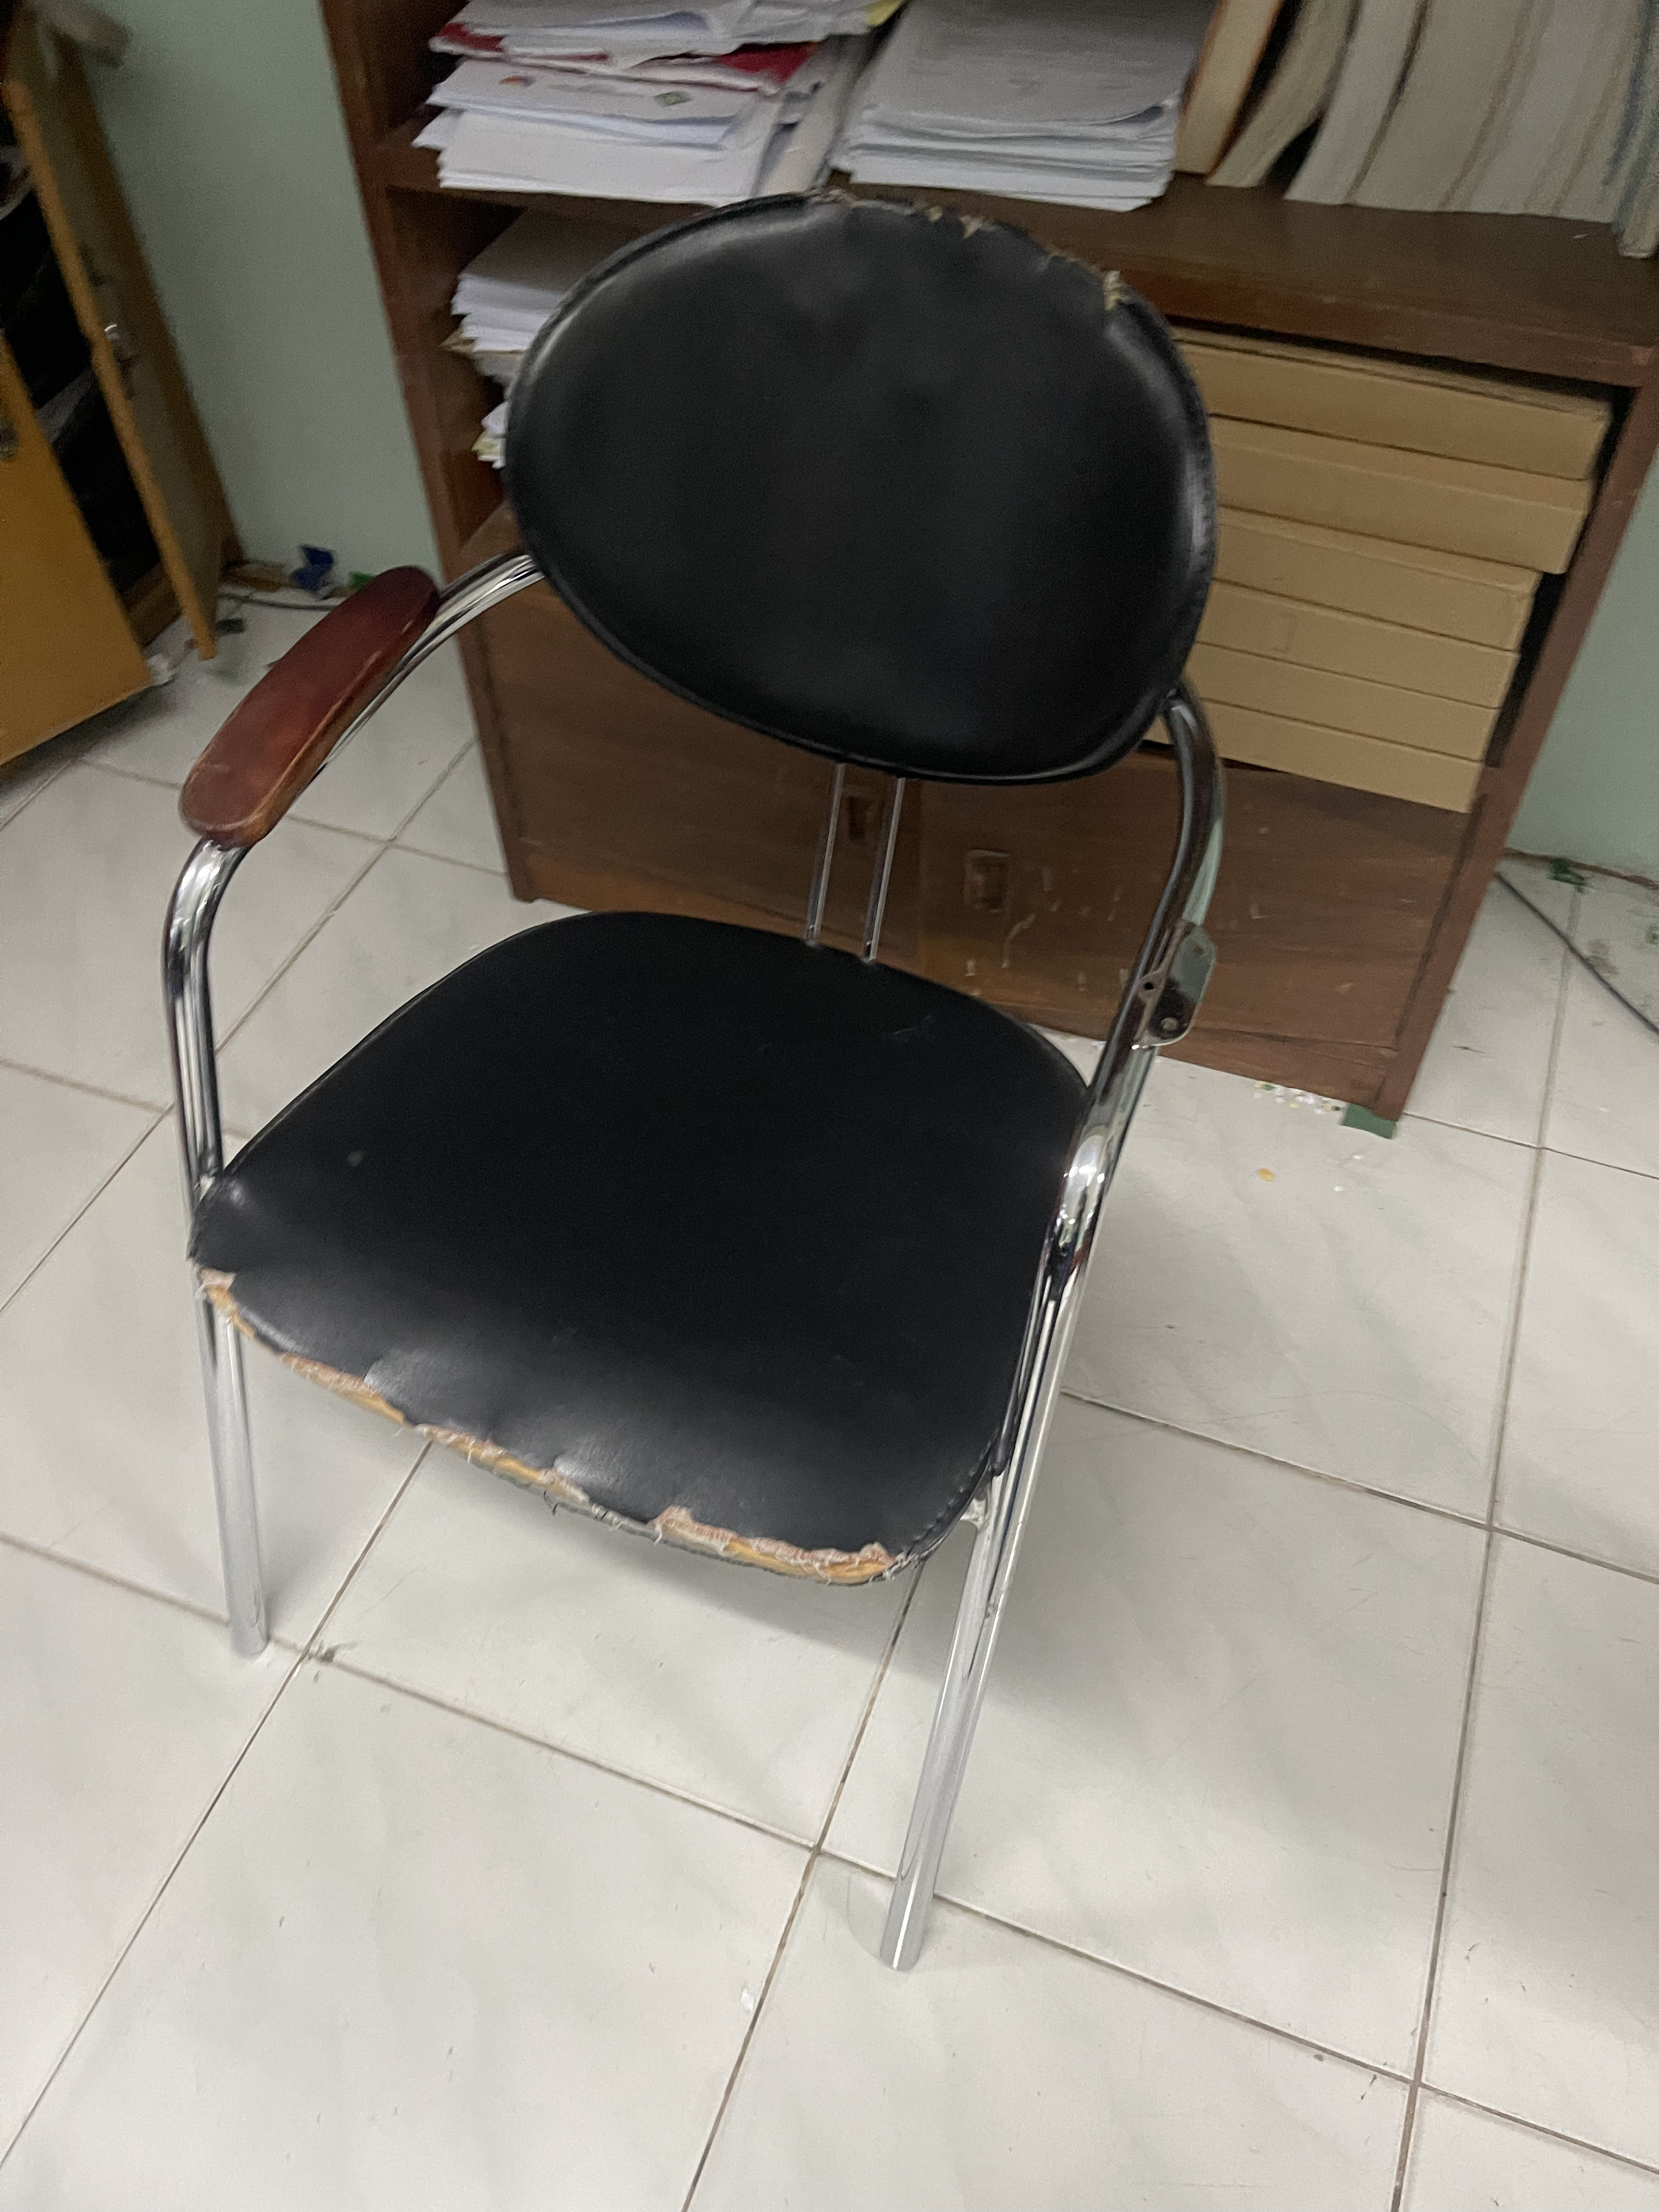chair1: (153, 193, 1227, 1979)
